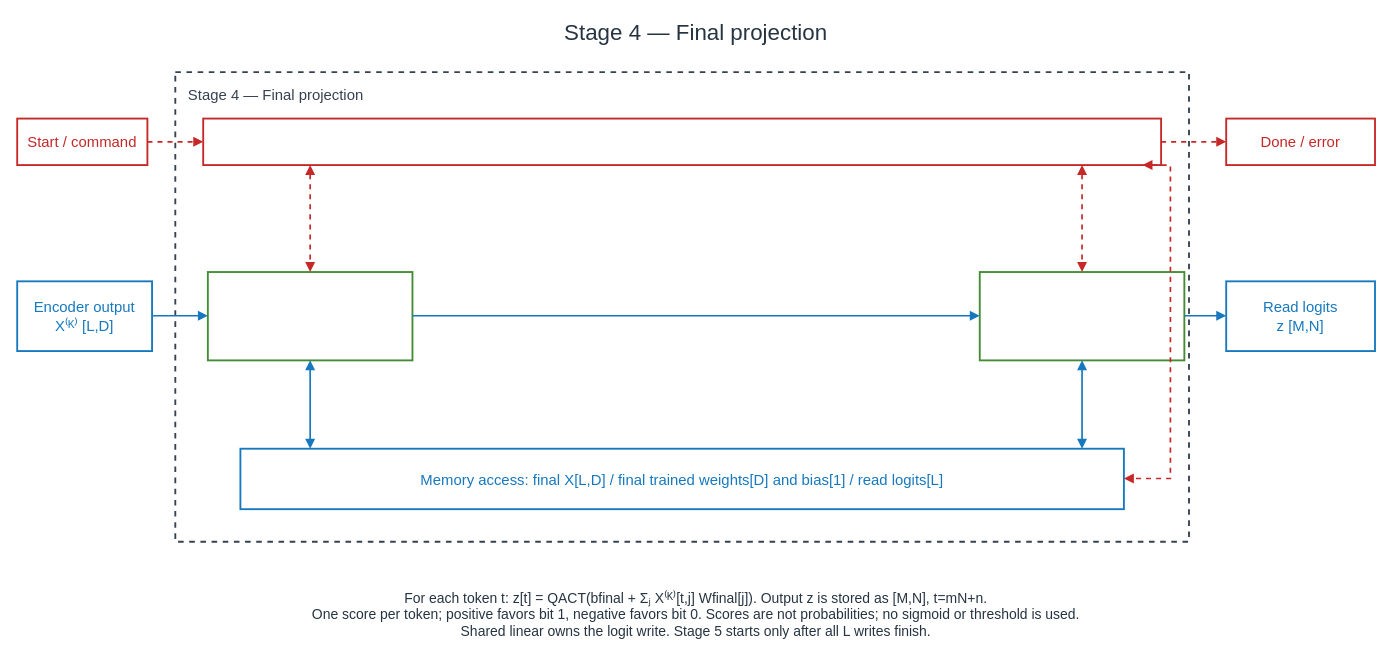
Image size: 1391x669. Some labels were removed from this diagram. Each missing label, with the box of its shape:
Shared linear D → 1 Stage 1 detail: (978, 271, 1185, 361)
Stage 4 controller: (202, 117, 1162, 166)
Token / address selection: (206, 271, 413, 361)
